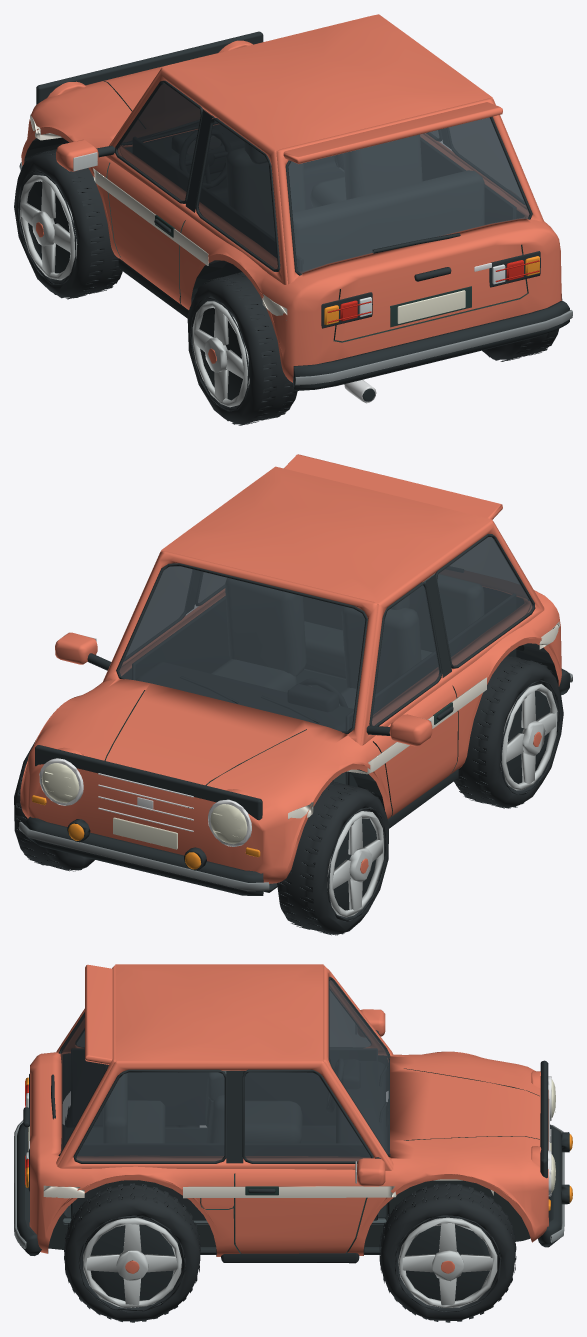
Rendered from bramble_lod2.fbx.
3 renders of one model, top to bottom at view 1: azimuth 30°, elevation 25°; view 2: azimuth 150°, elevation 25°; view 3: azimuth 270°, elevation 25°, orthographic. The views are drawn at different scales.
Visible parts, largest first — view 1: Body, Wheel_RL_Mesh, Wheel_FL_Mesh, Wheel_RR_Mesh; view 2: Body, Wheel_FL_Mesh, Wheel_RL_Mesh, Wheel_FR_Mesh; view 3: Body, Wheel_FR_Mesh, Wheel_RR_Mesh.
Part boxes in pixels (x1,y1,x2,y2): Body: (19, 14, 572, 403); Wheel_RL_Mesh: (187, 272, 297, 425); Wheel_FL_Mesh: (14, 149, 122, 299); Wheel_RR_Mesh: (482, 294, 562, 361); Body: (18, 454, 572, 895); Wheel_FL_Mesh: (277, 781, 389, 935); Wheel_RL_Mesh: (454, 655, 563, 808); Wheel_FR_Mesh: (14, 739, 94, 871); Body: (14, 964, 572, 1263); Wheel_FR_Mesh: (379, 1183, 516, 1322); Wheel_RR_Mesh: (64, 1183, 200, 1322).
Bounding box in the file's own units: 226 × 162 × 328.
